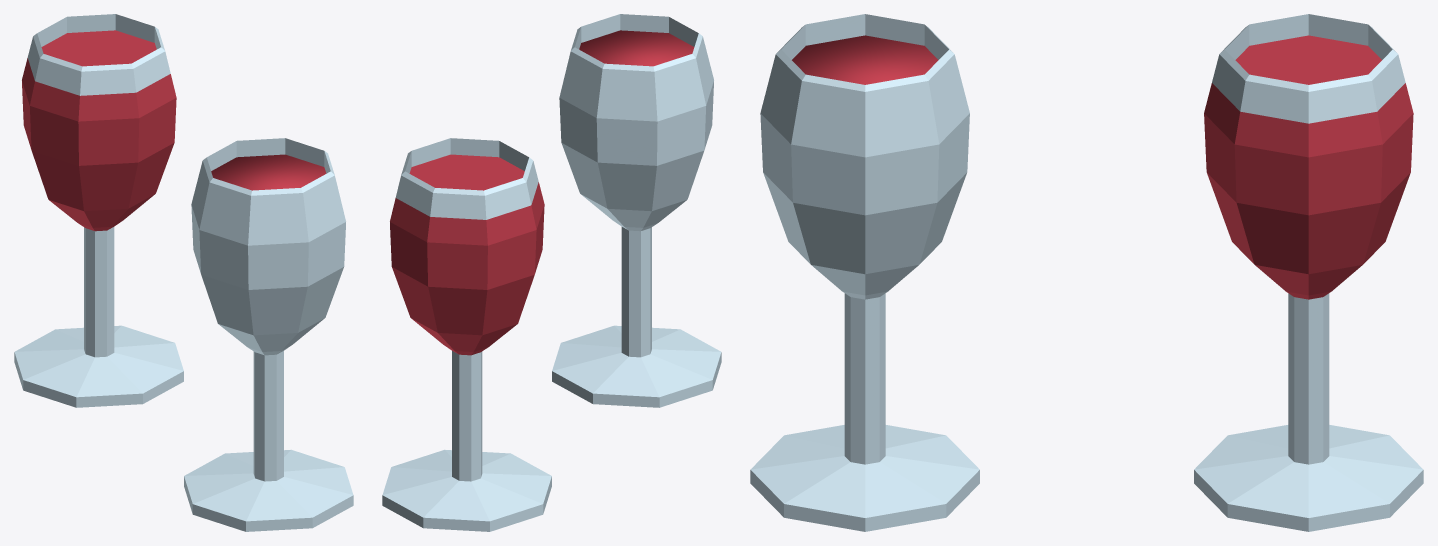
Rendered from kadeh.fbx.
The picture shows the model from 3 angles, left to right: view 1: azimuth 30°, elevation 25°; view 2: azimuth 150°, elevation 25°; view 3: azimuth 270°, elevation 25°; orthographic projection. The views are drawn at different scales.
Parts seen in each view (by area): view 1: WineGlass.001, WineGlass, WineGlass.002; view 2: WineGlass.001, WineGlass, WineGlass.002; view 3: WineGlass.001, WineGlass, WineGlass.002.
Part boxes in pixels (x1,y1,x2,y2): WineGlass.001: (14, 14, 183, 407); WineGlass: (184, 138, 353, 531); WineGlass.002: (211, 154, 326, 190); WineGlass.001: (382, 138, 551, 531); WineGlass: (552, 14, 721, 407); WineGlass.002: (579, 30, 694, 66); WineGlass.001: (1194, 14, 1423, 531); WineGlass: (750, 14, 979, 531); WineGlass.002: (792, 35, 938, 84).
Bounding box in the file's own units: 1.93 × 4.03 × 5.67.
